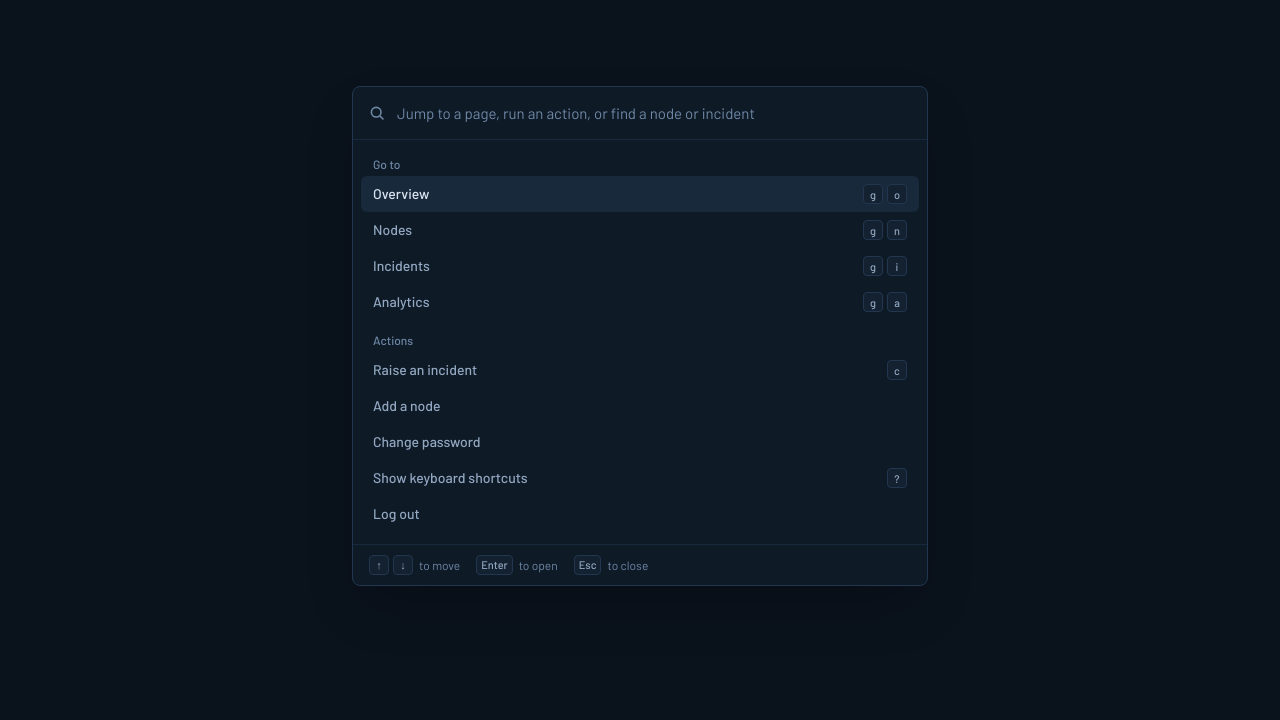
Test: CommandPalette › explains when nothing matches
Step 1. Type "zzzz" into the dropdown → (654, 113), box x1=397 y1=87 x2=911 y2=139
Wait 250 ms
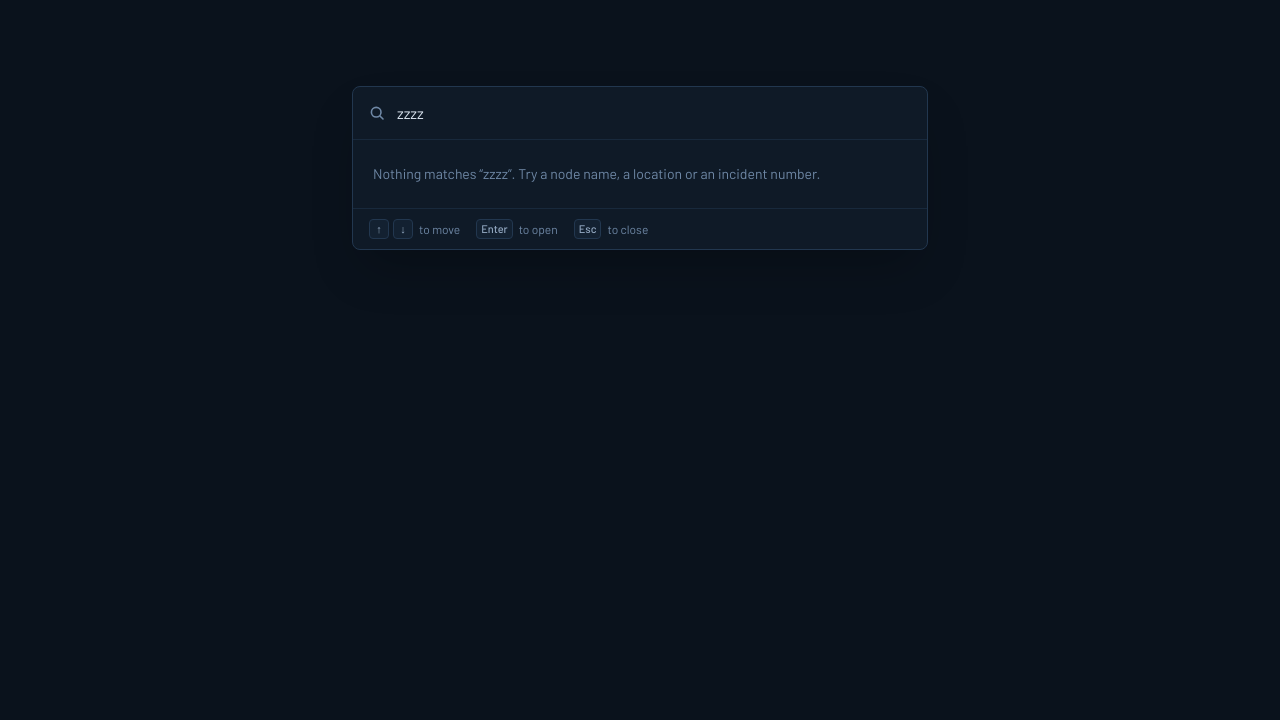
expect the text "Nothing matches" is shown: met, box x1=373 y1=165 x2=820 y2=182
